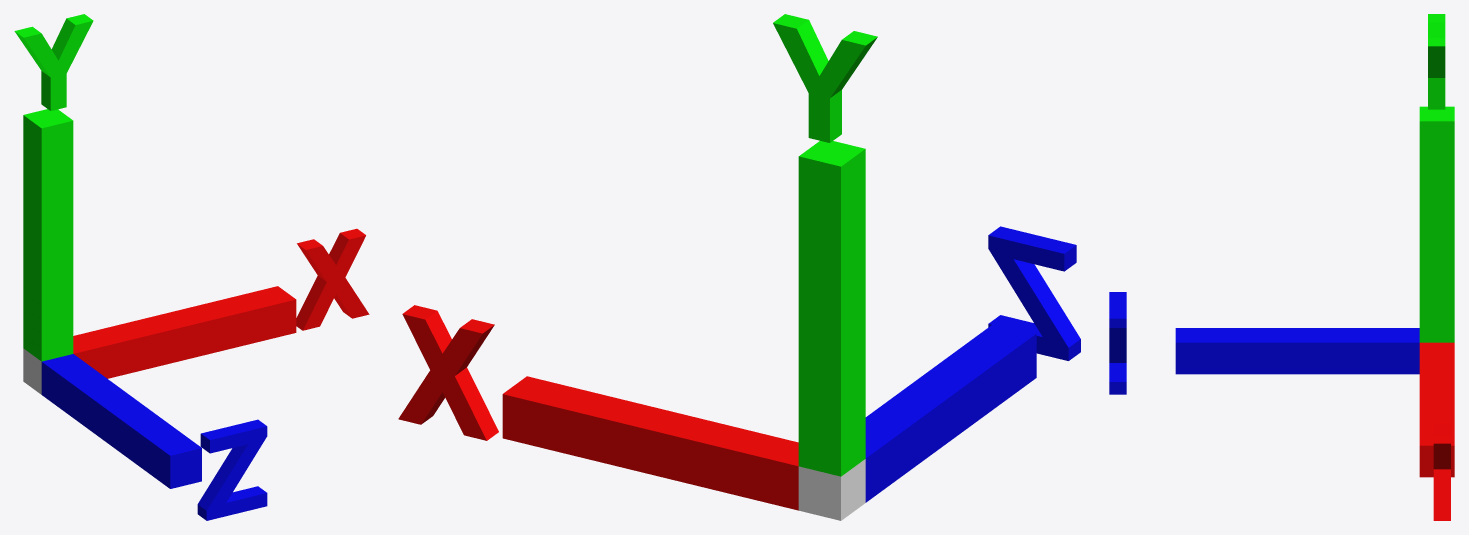
File: axis.fbx
3 views of the same model, side by side, from view 1: azimuth 30°, elevation 25°; view 2: azimuth 150°, elevation 25°; view 3: azimuth 270°, elevation 25° (orthographic). The views are drawn at different scales.
Visible parts, largest first — view 1: Axis; view 2: Axis; view 3: Axis.
Part boxes in pixels (box(x1,y1,x2,y2)): Axis: box(14, 14, 369, 520); Axis: box(398, 14, 1080, 520); Axis: box(1109, 14, 1454, 520).
Bounding box in the file's own units: 110 × 109 × 98.99.
1 material, 1 textured.
